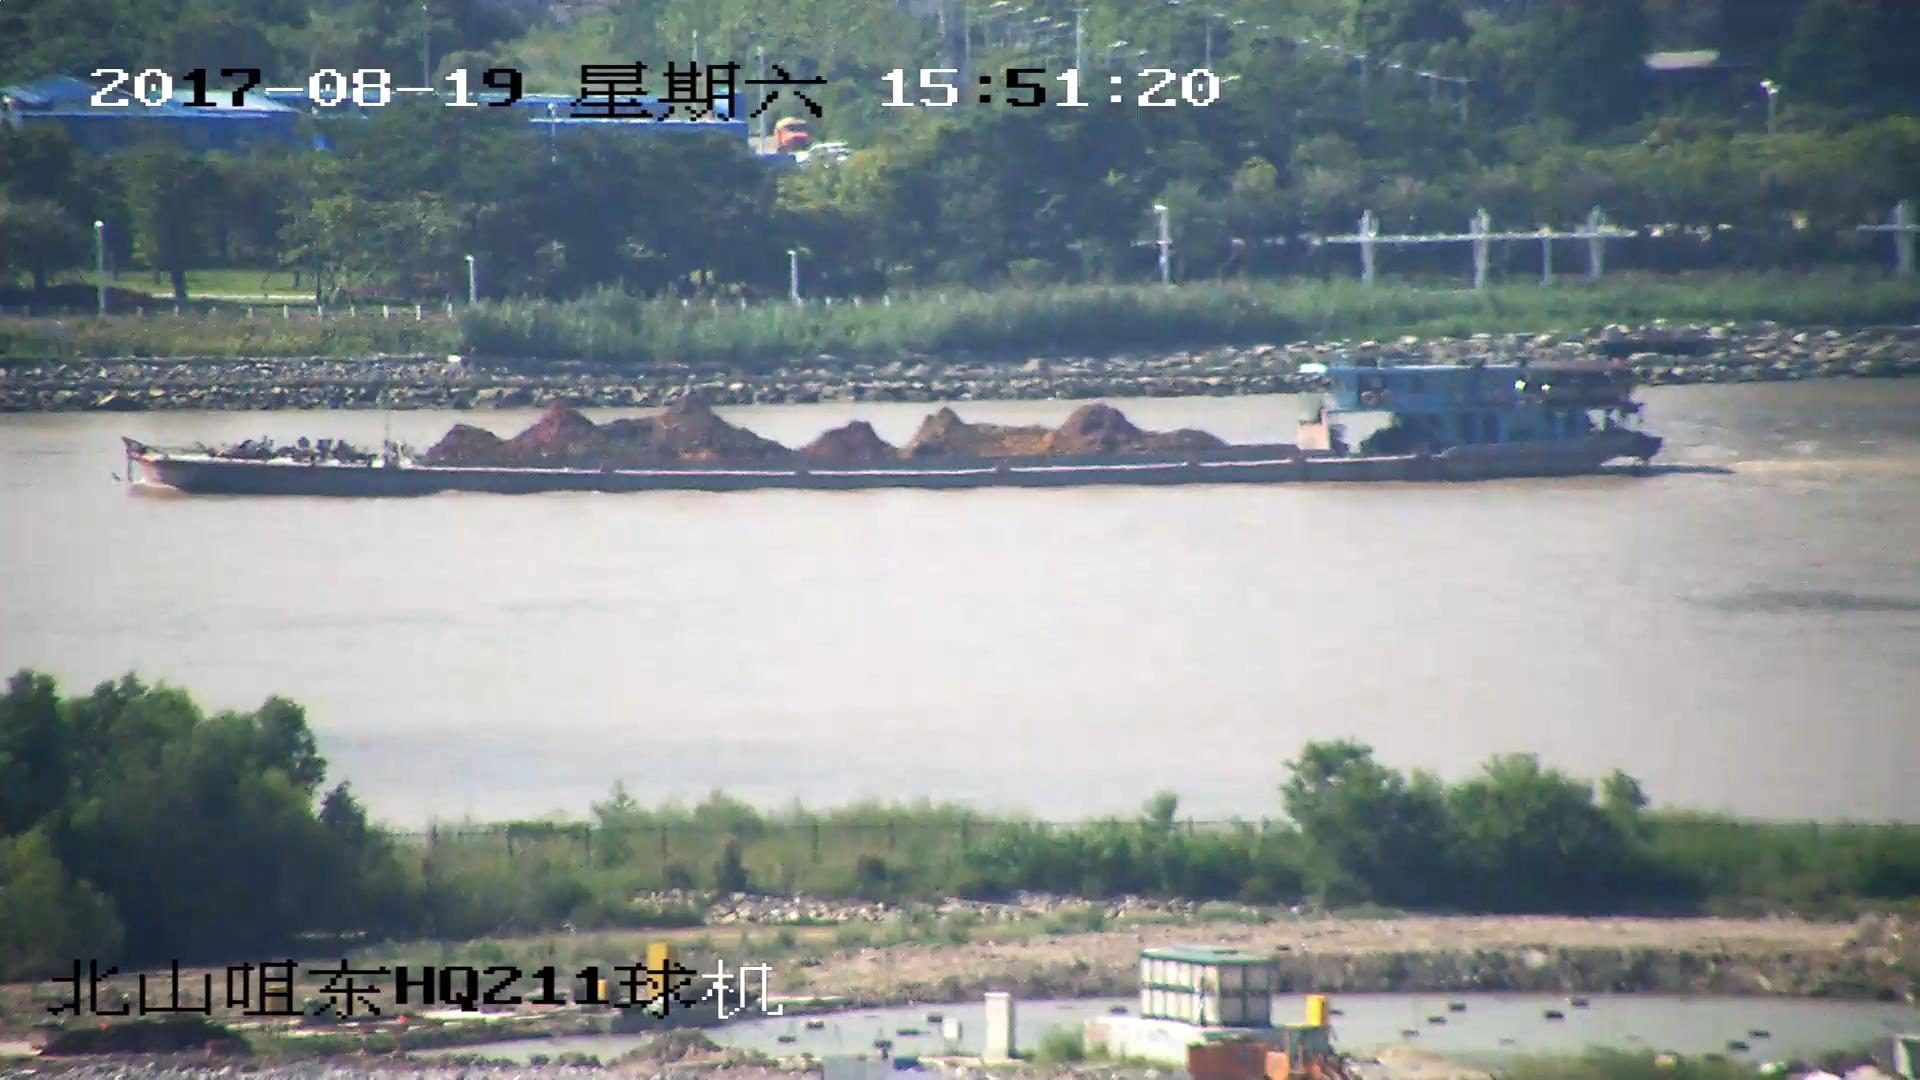Ship: (111, 363, 1665, 501)
